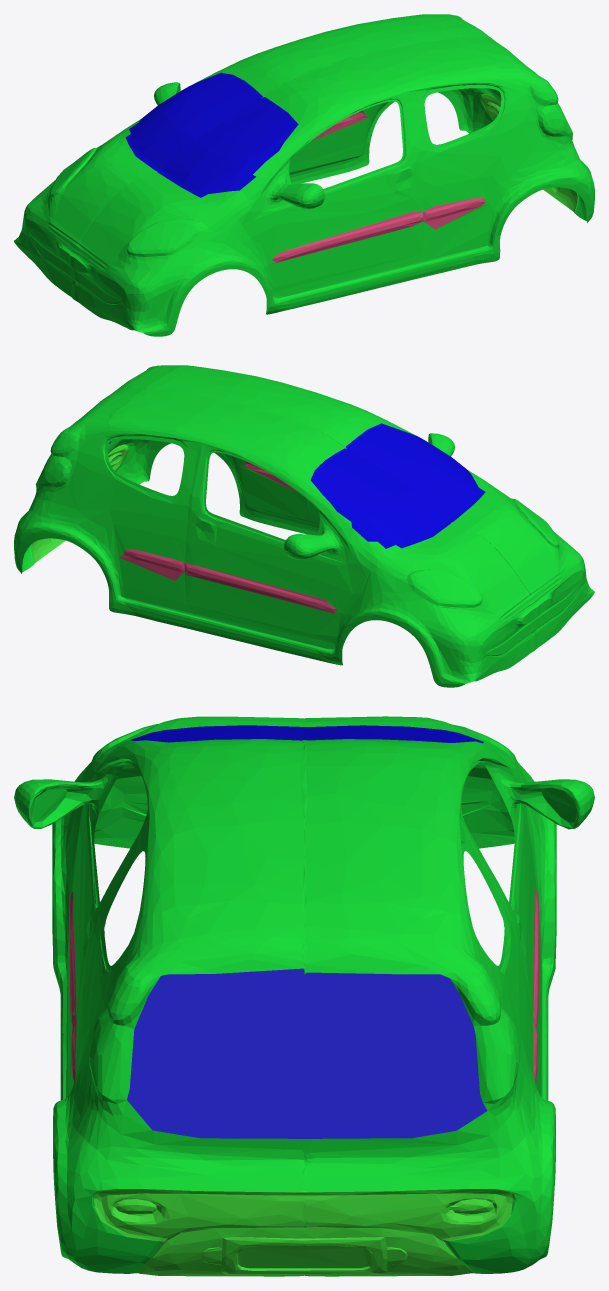
Rendered from Coche10.fbx.
3 renders of one model, top to bottom at view 1: azimuth 30°, elevation 25°; view 2: azimuth 150°, elevation 25°; view 3: azimuth 270°, elevation 25°, orthographic. The views are drawn at different scales.
Parts seen in each view (by area): view 1: Plane; view 2: Plane; view 3: Plane.
Boxes of the visible parts, x1,y1,x2,y2 form: Plane: (14, 14, 594, 336); Plane: (14, 365, 594, 687); Plane: (14, 716, 594, 1276).
Bounding box in the file's own units: 3359 × 1194 × 1870.
